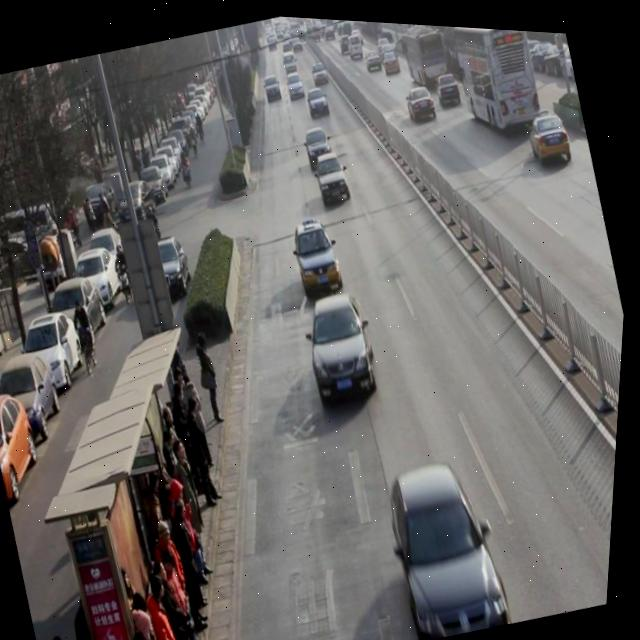car: (381, 446, 529, 640), (299, 283, 391, 405), (290, 211, 351, 295), (525, 101, 577, 160), (312, 143, 356, 202), (302, 118, 339, 168), (403, 78, 440, 121), (434, 63, 466, 104), (304, 81, 333, 117), (284, 64, 309, 97), (381, 42, 403, 71)
van: (447, 21, 549, 137), (397, 19, 454, 88)
